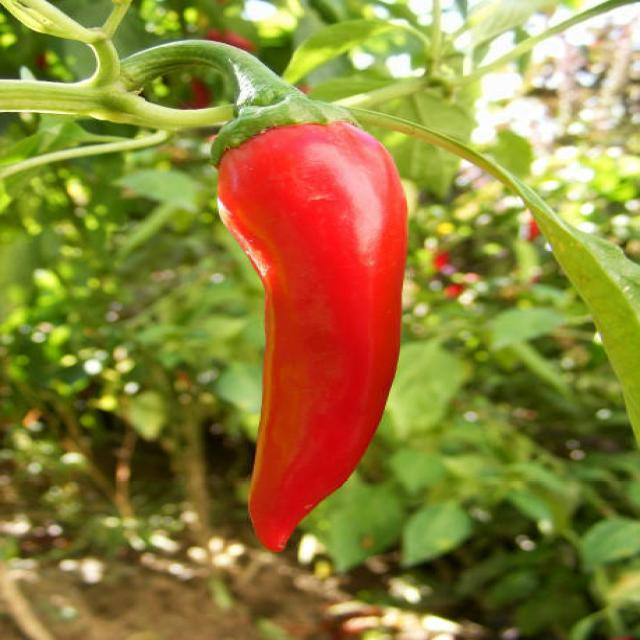Ripe: (216, 118, 410, 556)
